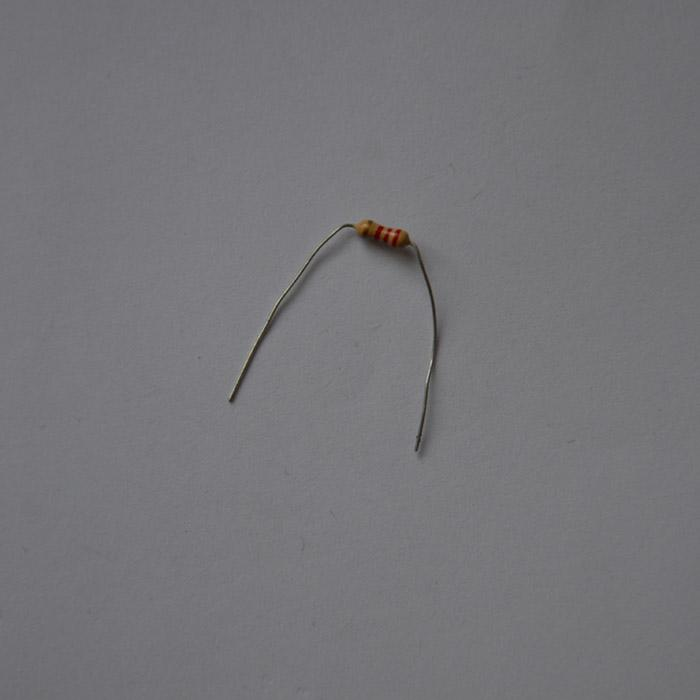resistor: (355, 218, 409, 248)
